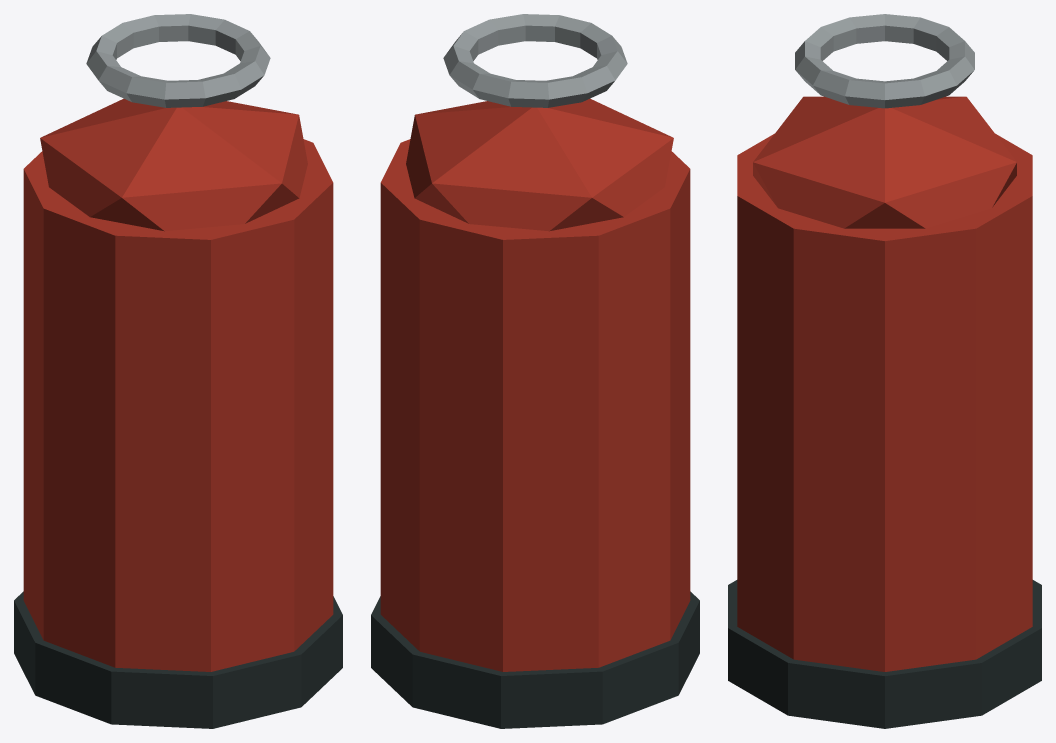
The model's file is binh_gas.glb.
The picture shows the model from 3 angles, left to right: view 1: azimuth 30°, elevation 25°; view 2: azimuth 150°, elevation 25°; view 3: azimuth 270°, elevation 25°; orthographic projection.
Parts seen in each view (by area): view 1: binh_gas; view 2: binh_gas; view 3: binh_gas.
Boxes of the visible parts, left/top/right/bottom form: binh_gas: left=14, top=14, right=342, bottom=728; binh_gas: left=371, top=14, right=699, bottom=728; binh_gas: left=728, top=14, right=1041, bottom=728.
Bounding box in the file's own units: 0.34 × 0.6943 × 0.3234.
